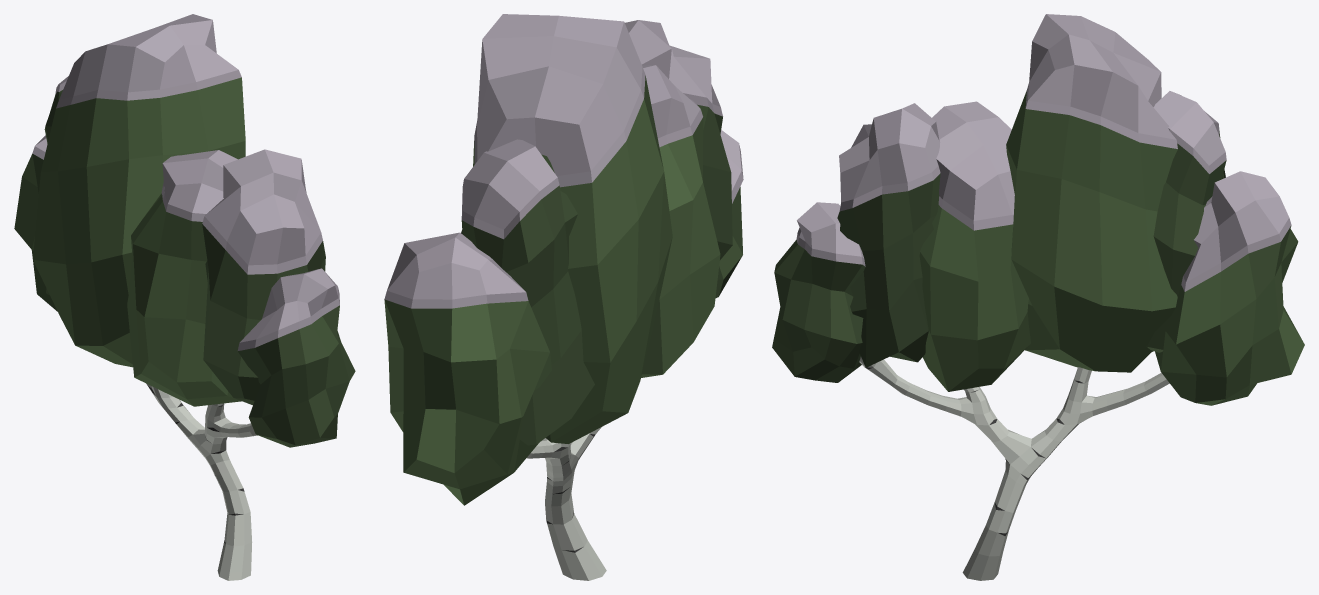
Rendered from BirchTree_Snow_4.gltf.
The picture shows the model from 3 angles, left to right: view 1: azimuth 30°, elevation 25°; view 2: azimuth 150°, elevation 25°; view 3: azimuth 270°, elevation 25°; orthographic projection. The views are drawn at different scales.
Parts seen in each view (by area): view 1: BirchTree_Snow_4; view 2: BirchTree_Snow_4; view 3: BirchTree_Snow_4.
Part boxes in pixels (x1,y1,x2,y2): BirchTree_Snow_4: [14, 14, 355, 580]; BirchTree_Snow_4: [384, 14, 743, 580]; BirchTree_Snow_4: [772, 14, 1304, 580].
Bounding box in the file's own units: 1.15 × 3.6 × 3.29.
